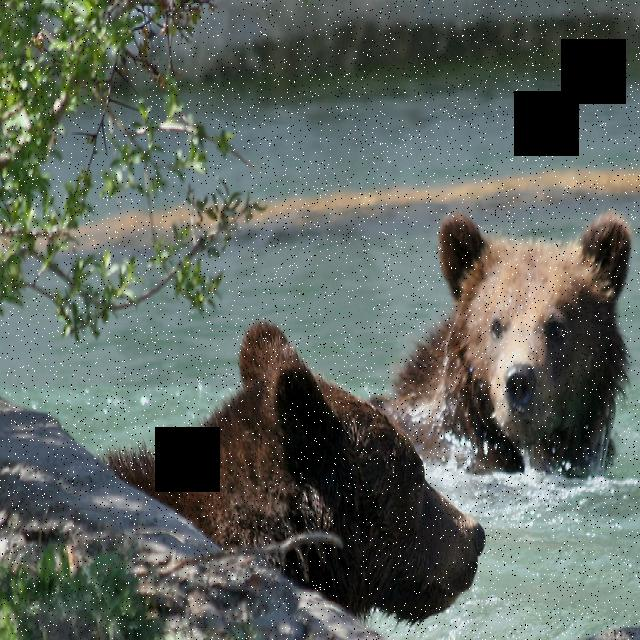Bear: (90, 318, 485, 630), (374, 212, 634, 482)
